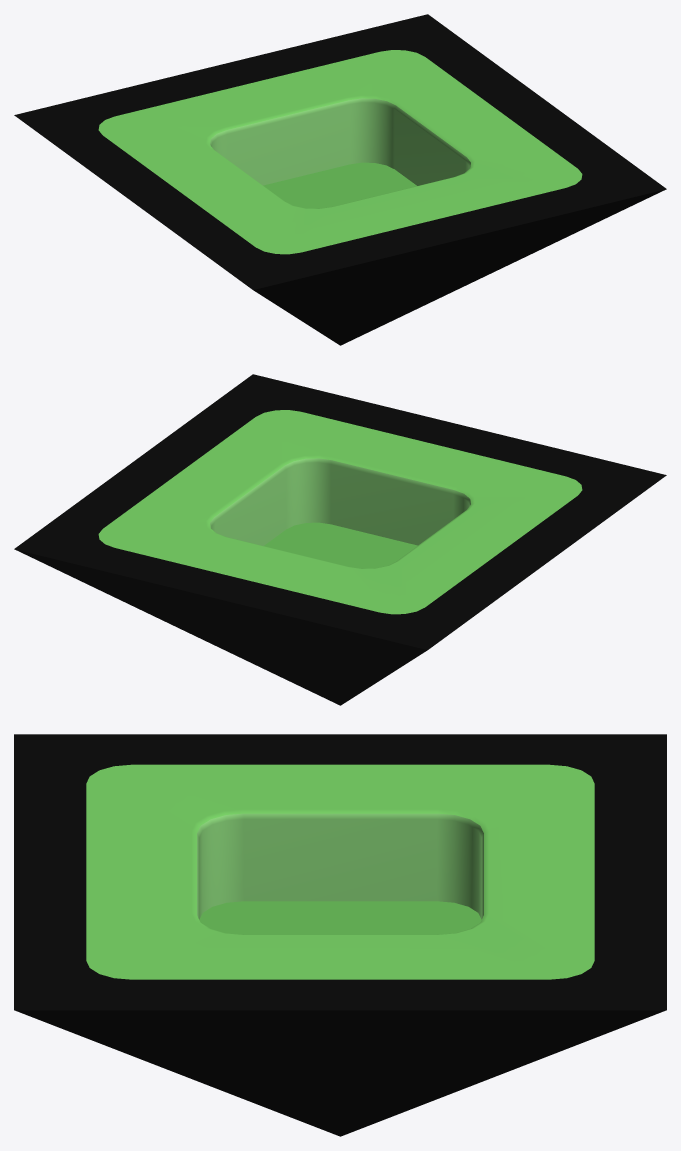
File: Cell_Green_V2.fbx
3 renders of one model, top to bottom at view 1: azimuth 30°, elevation 25°; view 2: azimuth 150°, elevation 25°; view 3: azimuth 270°, elevation 25°, orthographic. The views are drawn at different scales.
Parts seen in each view (by area): view 1: Cell_Green_v2; view 2: Cell_Green_v2; view 3: Cell_Green_v2.
Part boxes in pixels (<box>): Cell_Green_v2: <box>14,14,666,345</box>; Cell_Green_v2: <box>14,374,666,705</box>; Cell_Green_v2: <box>14,734,666,1136</box>.
Size of the model in its own units: 112 by 50.06 by 112.
